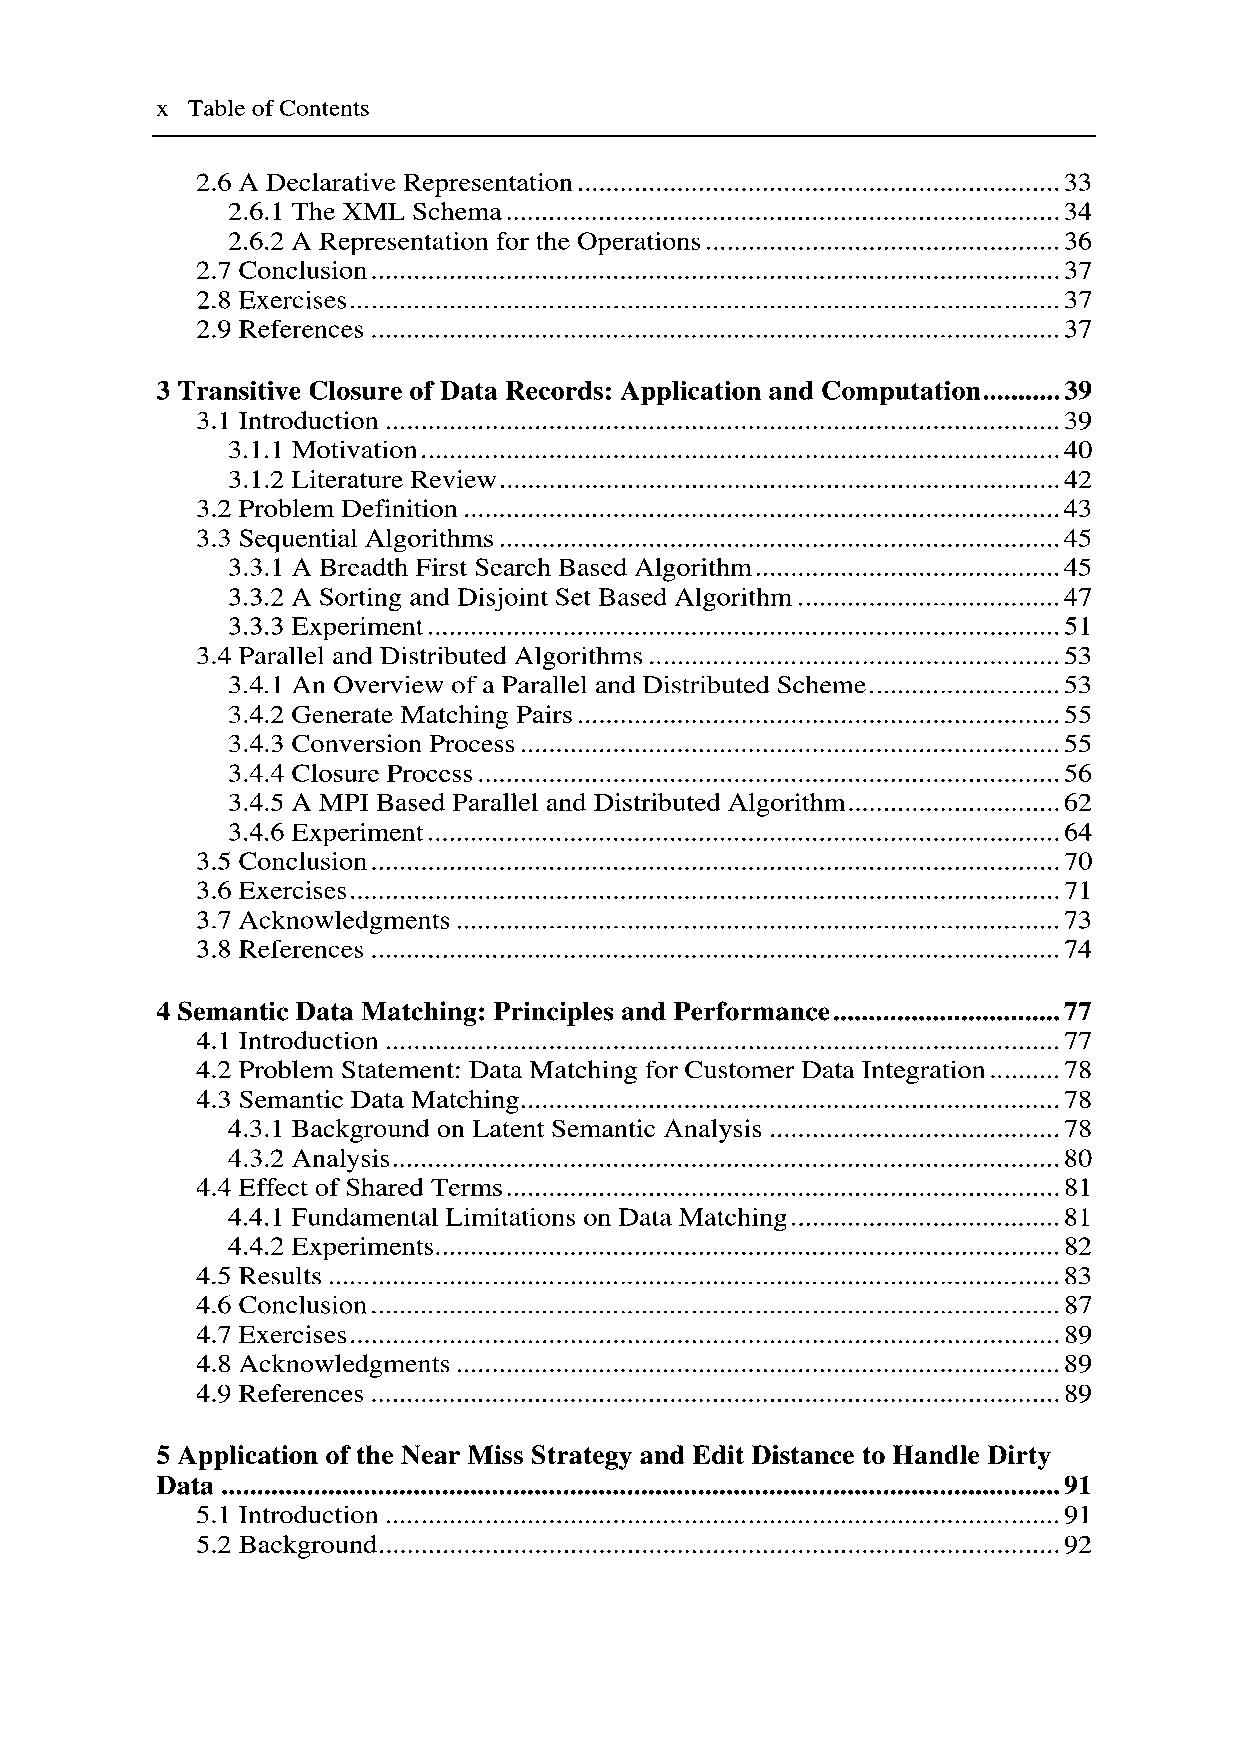TOC_chapter: (156, 1439, 1049, 1496), (152, 372, 984, 403), (197, 1053, 985, 1084), (156, 994, 831, 1027), (225, 582, 796, 613), (225, 1114, 764, 1143), (225, 1205, 788, 1233), (225, 672, 868, 697), (229, 792, 848, 816), (225, 553, 754, 578), (192, 640, 645, 670), (227, 225, 702, 254), (189, 166, 576, 192), (192, 1174, 505, 1202), (225, 701, 576, 725), (197, 1086, 522, 1111), (223, 462, 498, 491), (192, 523, 494, 550), (220, 758, 476, 789), (227, 731, 523, 757), (195, 905, 454, 933), (225, 197, 503, 223), (192, 491, 458, 517), (196, 1351, 450, 1377), (192, 1502, 382, 1531), (191, 254, 370, 285), (189, 843, 368, 872), (191, 1533, 376, 1561), (225, 435, 419, 462), (225, 819, 423, 844), (193, 314, 362, 344), (197, 1380, 368, 1408), (225, 615, 424, 639), (189, 1292, 366, 1319), (227, 1235, 432, 1257), (195, 1029, 376, 1052), (196, 937, 366, 961), (225, 1147, 395, 1172), (189, 1260, 327, 1290), (185, 1323, 350, 1347), (193, 411, 377, 432), (189, 876, 348, 900), (195, 289, 348, 307)
TOC_pagenumber: (1060, 372, 1092, 404), (1059, 989, 1090, 1023), (1062, 609, 1092, 640), (1062, 1378, 1092, 1408), (1062, 701, 1095, 727), (1062, 228, 1096, 254), (1063, 786, 1092, 816), (1062, 522, 1092, 550), (1060, 907, 1094, 933), (1062, 1531, 1096, 1555), (1063, 845, 1092, 872), (1062, 1145, 1091, 1172), (1066, 1465, 1092, 1495), (1060, 878, 1091, 903), (1062, 436, 1094, 460), (1066, 315, 1092, 344), (1062, 552, 1091, 577), (1062, 258, 1092, 282), (1066, 641, 1096, 666), (1066, 464, 1092, 491), (1066, 1024, 1094, 1049), (1063, 1499, 1091, 1525), (1062, 493, 1091, 517), (1062, 762, 1092, 785), (1062, 1086, 1092, 1108), (1062, 1349, 1092, 1372), (1066, 199, 1092, 224), (1066, 580, 1092, 605), (1066, 671, 1092, 697), (1066, 819, 1092, 844), (1066, 934, 1092, 960), (1062, 1202, 1088, 1228), (1063, 1232, 1090, 1257), (1063, 1057, 1092, 1080), (1063, 1117, 1092, 1139), (1062, 1176, 1091, 1198), (1062, 1263, 1091, 1286), (1062, 1292, 1091, 1315), (1063, 1322, 1091, 1345), (1066, 287, 1095, 309), (1066, 731, 1092, 754), (1062, 170, 1090, 192), (1066, 407, 1090, 431)
chapter: (183, 95, 374, 121)
